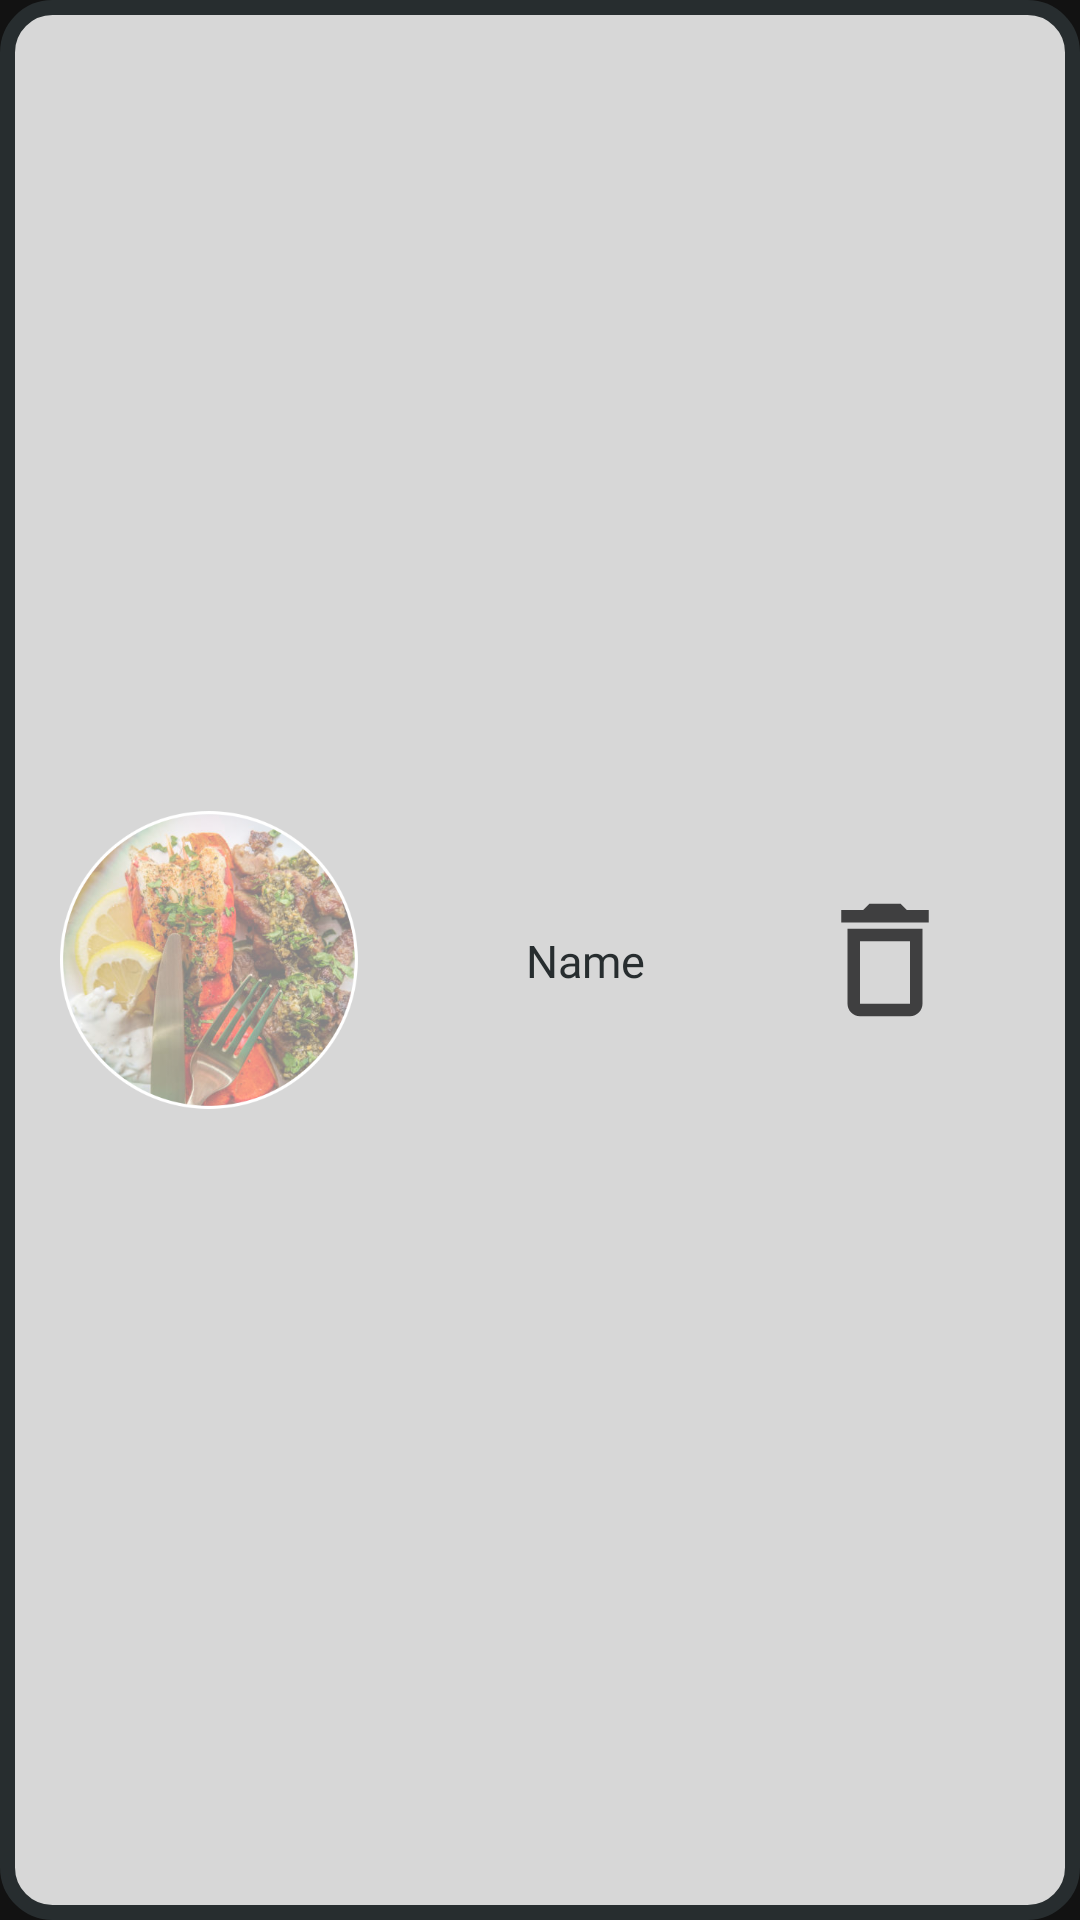

Named icons in this screenshot (1080w x 1920h) and their centers, point (x, y):
delete: point (885, 960)
food: point (209, 960)
